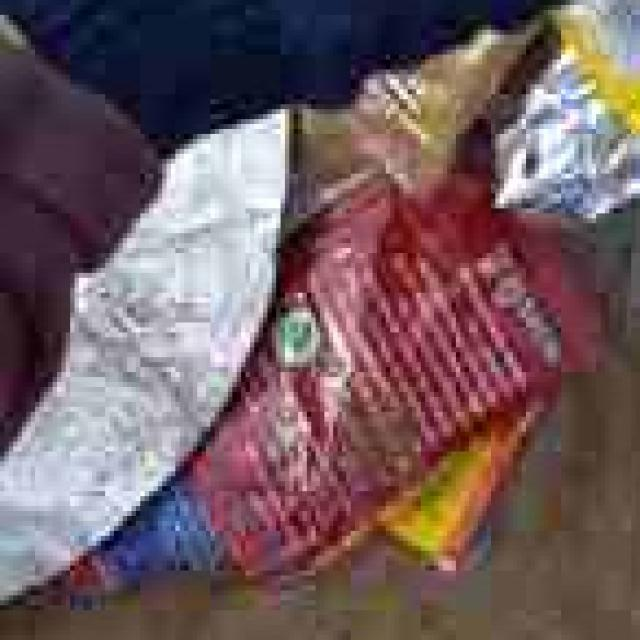giay_goi: (70, 174, 618, 610)
